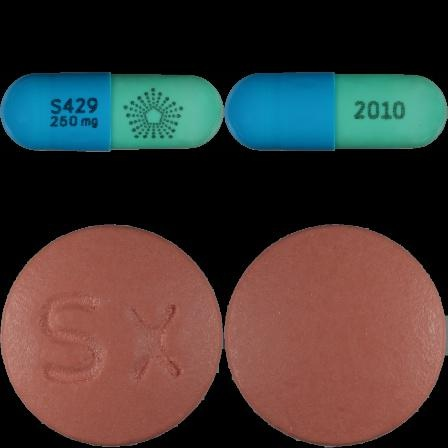68151-4769: (0, 0, 224, 224)
